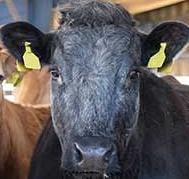muzzles: (59, 137, 125, 179)
